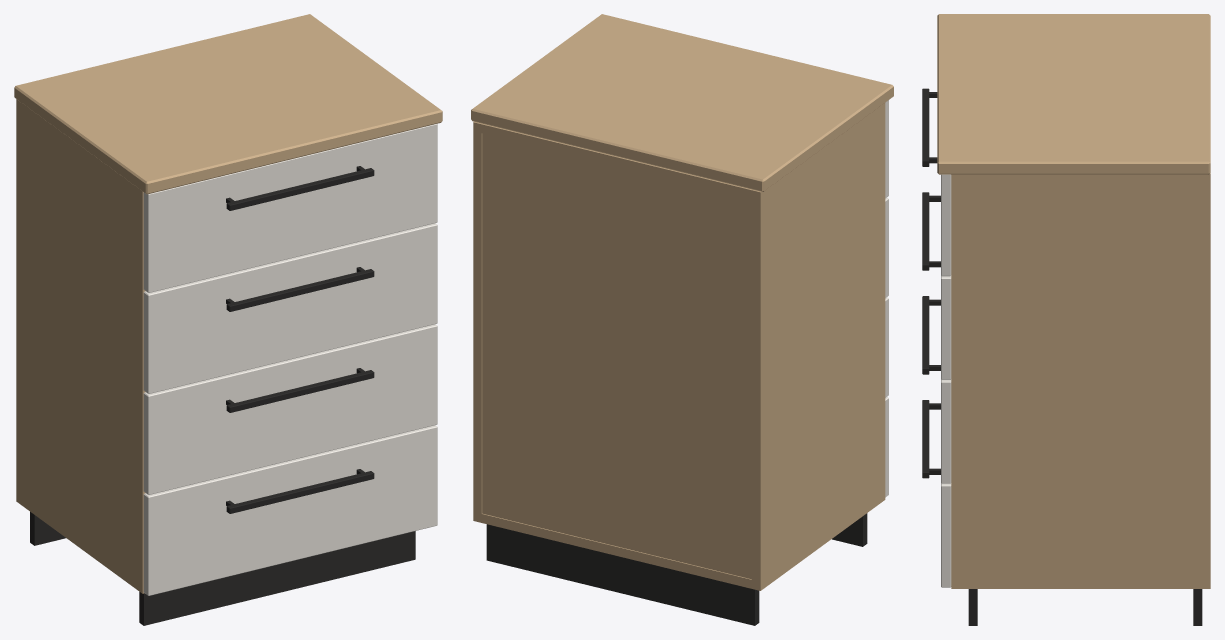
File: 05_komoda_60_4sz.glb
3 renders of one model, left to right at view 1: azimuth 30°, elevation 25°; view 2: azimuth 150°, elevation 25°; view 3: azimuth 270°, elevation 25°, orthographic. The views are drawn at different scales.
Visible parts, largest first — view 1: Korpus, Wierzch, Front_szuflada_4, Front_szuflada_3, Front_szuflada_2, Front_szuflada_1, Cokol, Uchwyty; view 2: Korpus, Wierzch, Cokol; view 3: Korpus, Wierzch, Uchwyty, Front_szuflada_4, Front_szuflada_3, Front_szuflada_2, Front_szuflada_1, Cokol.
Part boxes in pixels (x1,y1,x2,y2): Korpus: (16,99,145,593); Wierzch: (14,14,442,194); Front_szuflada_4: (143,425,437,595); Front_szuflada_3: (143,324,437,494); Front_szuflada_2: (143,223,437,393); Front_szuflada_1: (143,123,437,292); Cokol: (30,512,415,625); Uchwyty: (226,166,374,513); Korpus: (473,103,885,590); Wierzch: (471,14,893,191); Cokol: (486,513,867,625); Korpus: (951,173,1210,588); Wierzch: (937,14,1210,174); Uchwyty: (922,88,940,478); Front_szuflada_4: (941,483,951,587); Front_szuflada_3: (941,379,951,483); Front_szuflada_2: (941,275,951,379); Front_szuflada_1: (941,174,951,276); Cokol: (968,589,1202,625).
Size of the model in its own units: 0.612 by 0.9 by 0.5.
